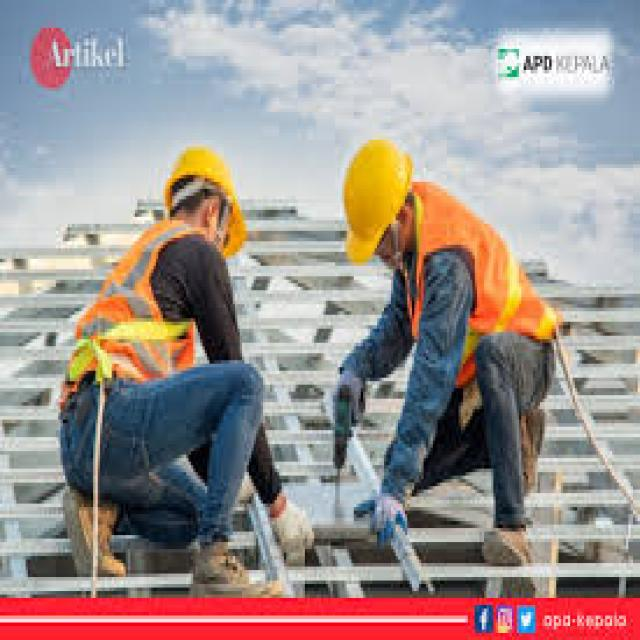shoes: (62, 490, 139, 583), (185, 540, 283, 598), (480, 523, 537, 597)
